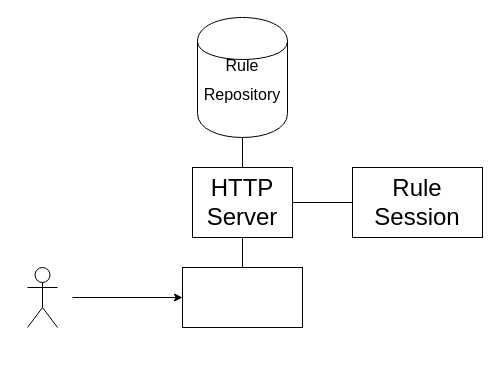
This 500x381 diagram has some shape labels left out. Each missing label, with the box of its shape:
Flowchart Builder: (182, 266, 302, 328)
User: (26, 266, 58, 328)
